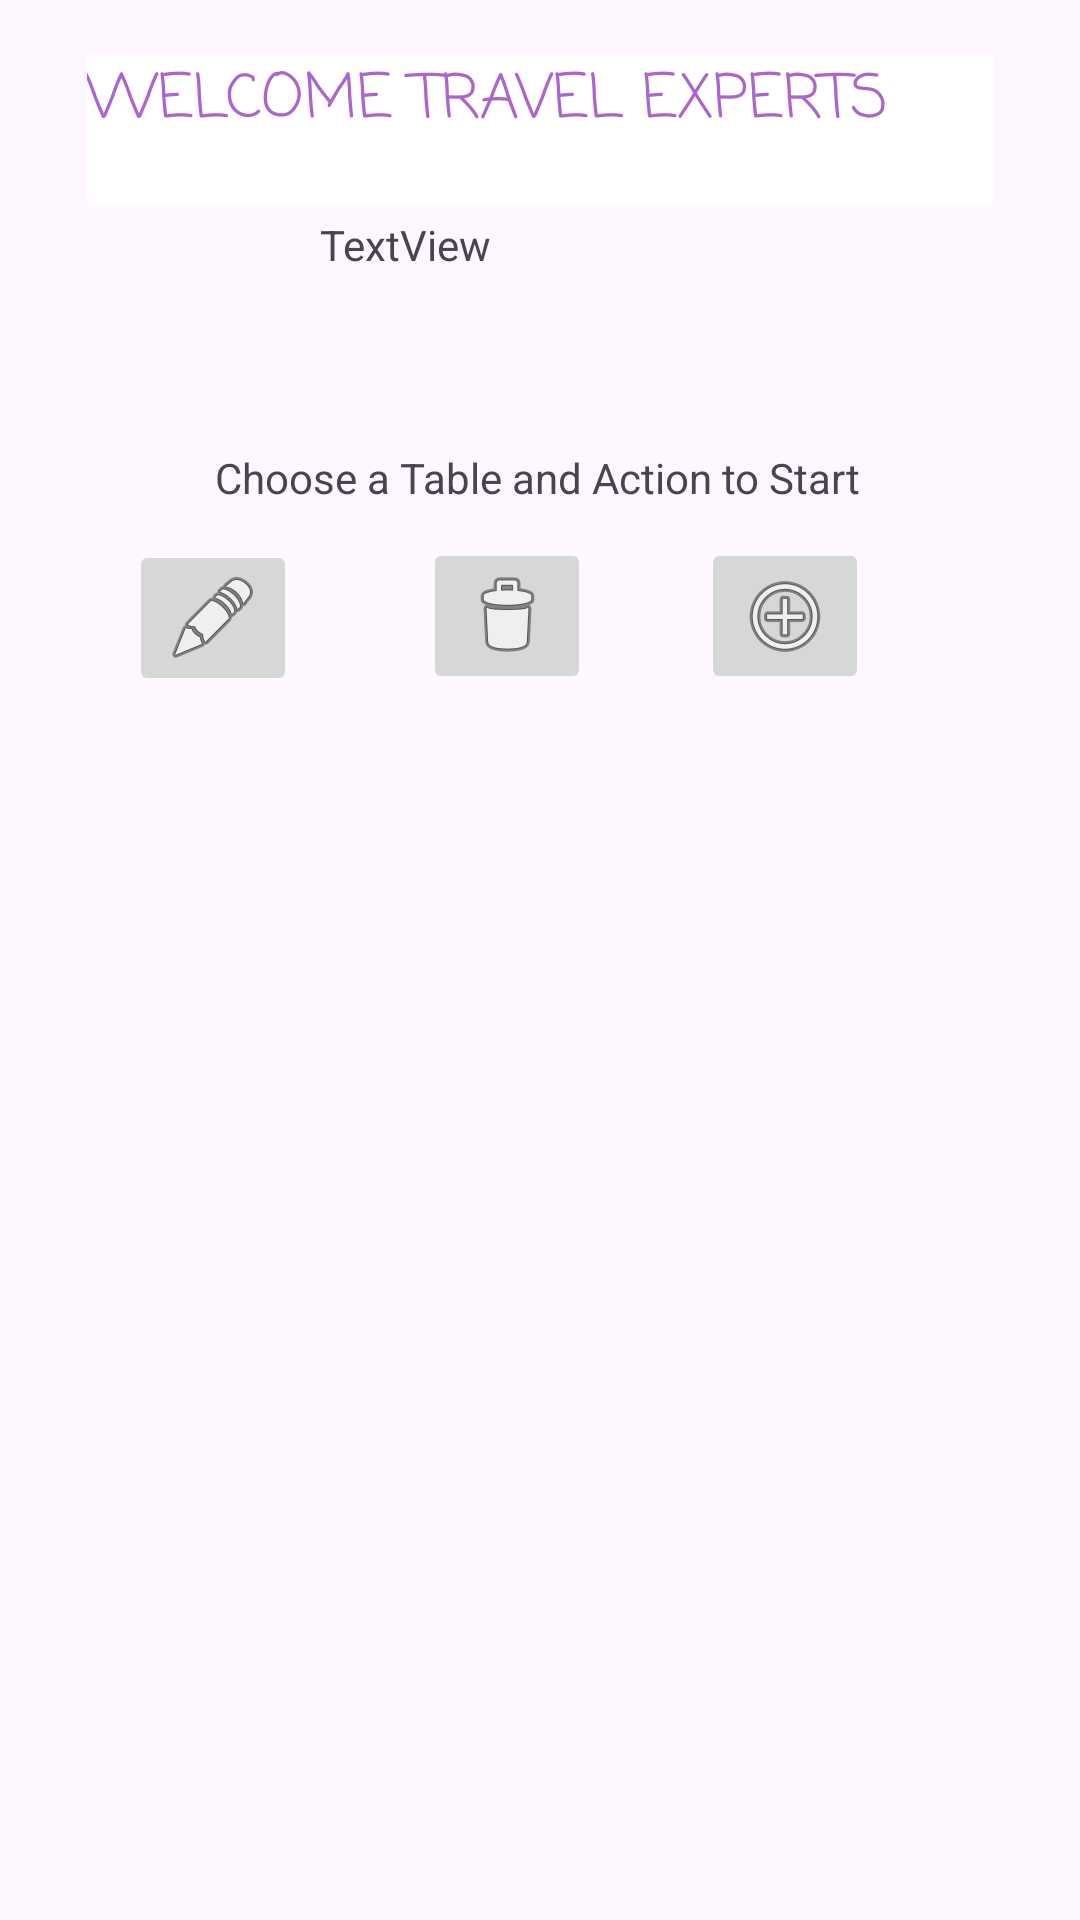

Icon bounding boxes for this 1080*1920 phone screenshot, format [x1,y1,x2,y2]:
add: [713,556,857,676]
delete: [435,556,579,676]
edit: [141,558,285,678]
